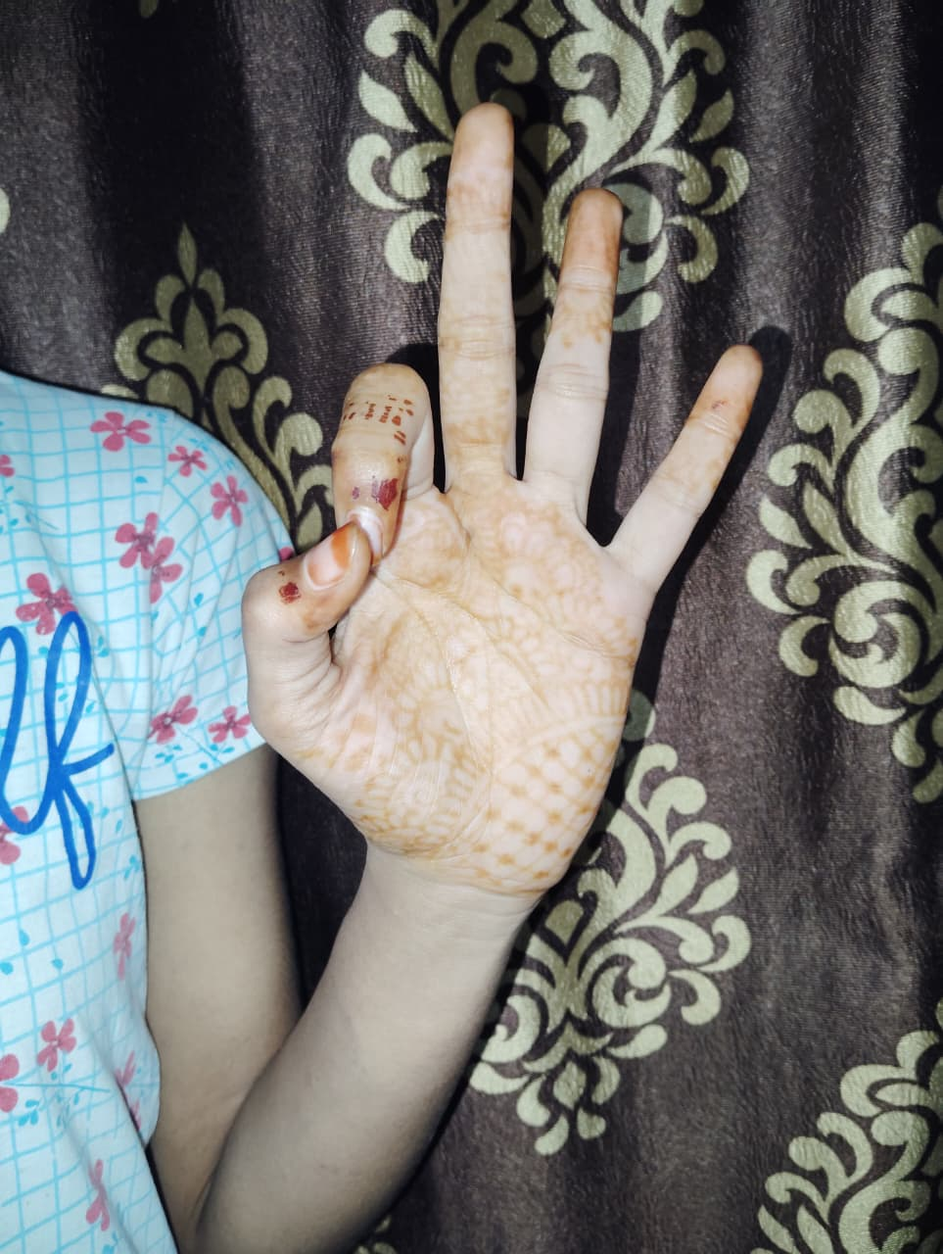F: (243, 104, 762, 857)
